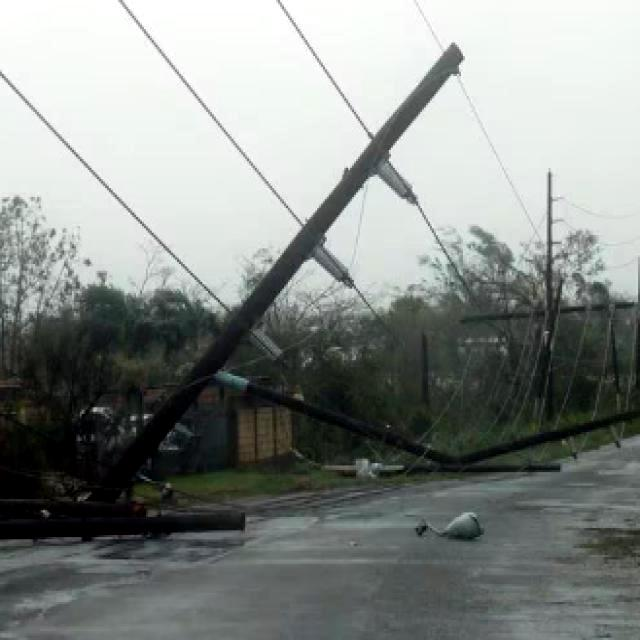Broken Pole: (86, 39, 465, 499), (219, 369, 637, 464), (0, 509, 246, 539)
